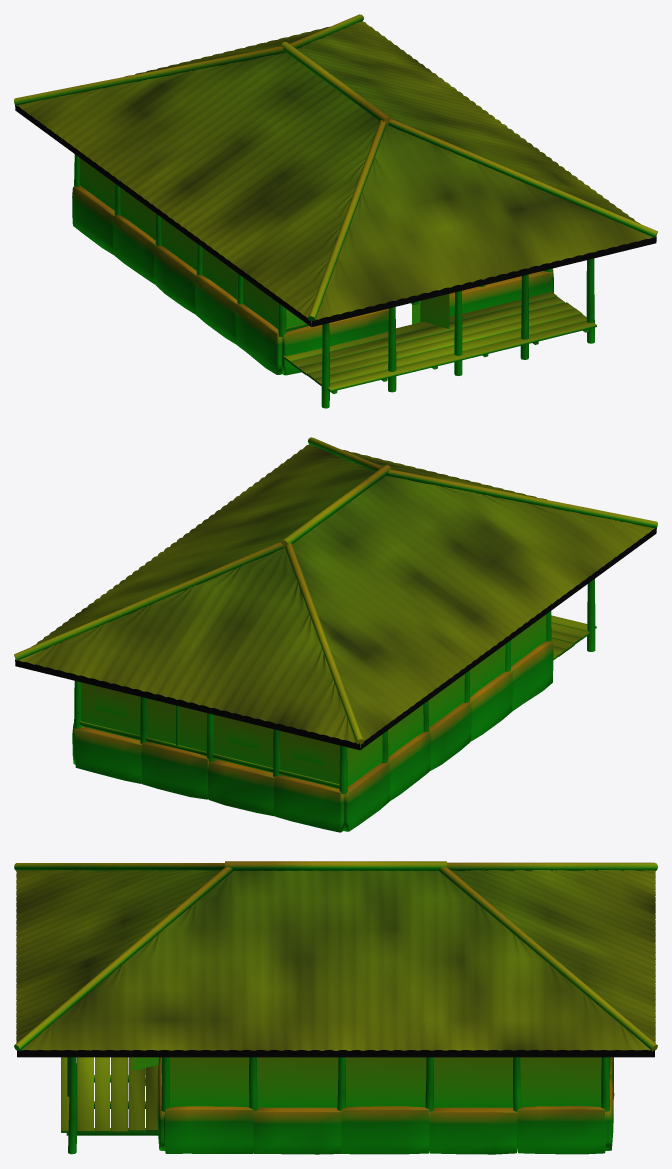
Rendered from house_tile_c.glb.
The picture shows the model from 3 angles, top to bottom: view 1: azimuth 30°, elevation 25°; view 2: azimuth 150°, elevation 25°; view 3: azimuth 270°, elevation 25°; orthographic projection. The views are drawn at different scales.
Visible parts, largest first — view 1: house_tile_c; view 2: house_tile_c; view 3: house_tile_c.
Part boxes in pixels (left/top/right/bottom): house_tile_c: left=14, top=14, right=657, bottom=408; house_tile_c: left=14, top=437, right=657, bottom=832; house_tile_c: left=14, top=861, right=657, bottom=1154.
Size of what is drawn, in the model's own units: 7.91 by 4.45 by 11.71.
